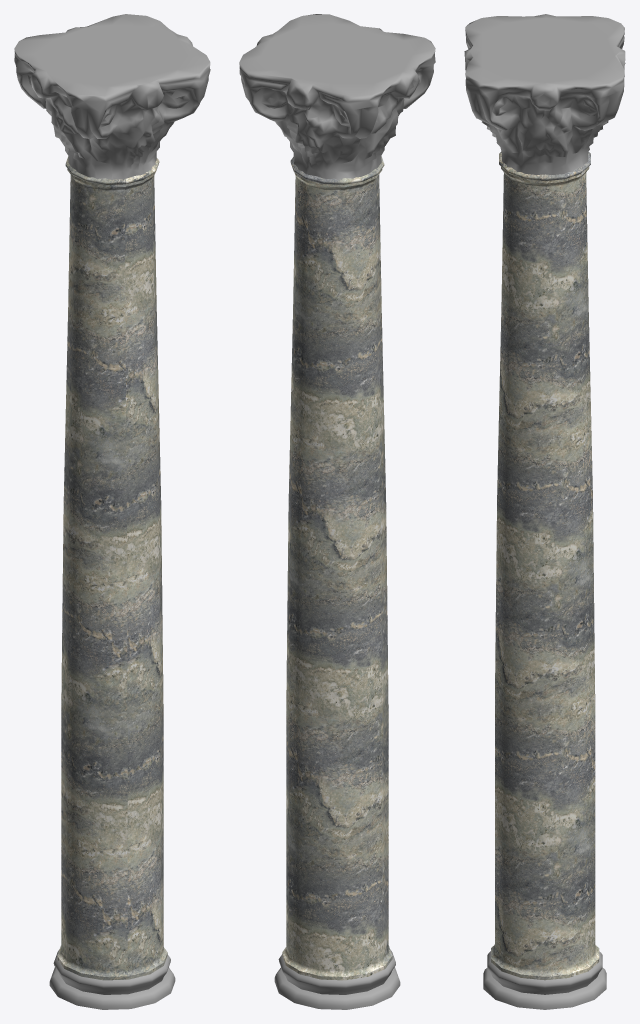
The model's file is Column.fbx.
3 renders of one model, left to right at view 1: azimuth 30°, elevation 25°; view 2: azimuth 150°, elevation 25°; view 3: azimuth 270°, elevation 25°, orthographic.
Parts seen in each view (by area): view 1: Column_Middle, Column_Capital, Column_Base; view 2: Column_Middle, Column_Capital, Column_Base; view 3: Column_Middle, Column_Capital, Column_Base.
Part boxes in pixels (<box>): Column_Middle: <box>57,156,167,980</box>; Column_Capital: <box>14,14,210,180</box>; Column_Base: <box>49,950,175,1009</box>; Column_Middle: <box>282,156,392,980</box>; Column_Capital: <box>239,14,435,179</box>; Column_Base: <box>274,950,400,1009</box>; Column_Middle: <box>491,151,599,980</box>; Column_Capital: <box>464,14,625,174</box>; Column_Base: <box>483,951,606,1009</box>.
Size of the model in its own units: 121 by 700 by 110.
